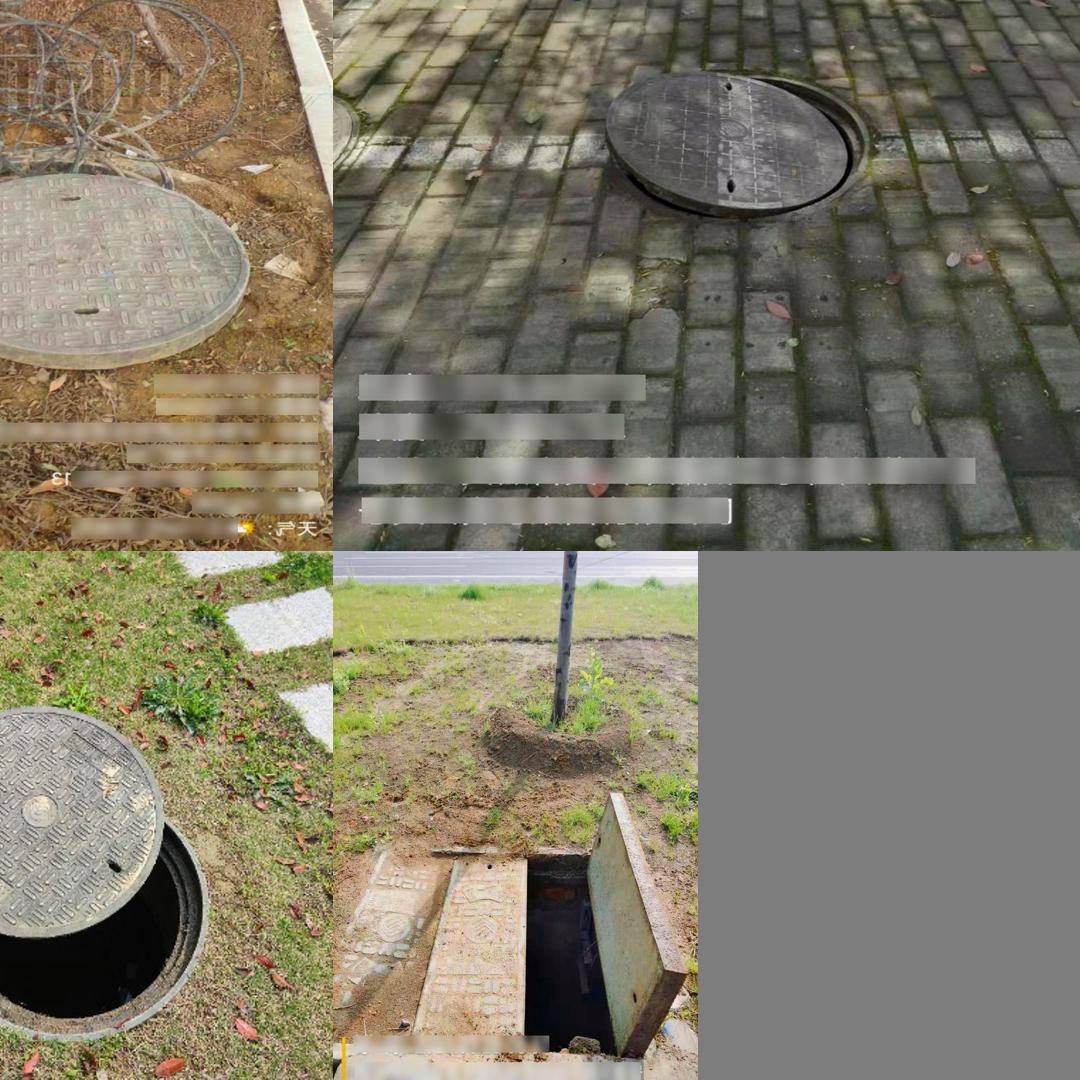uncovered: (336, 796, 693, 1078), (0, 706, 209, 1039), (0, 153, 251, 366), (603, 69, 869, 220)
